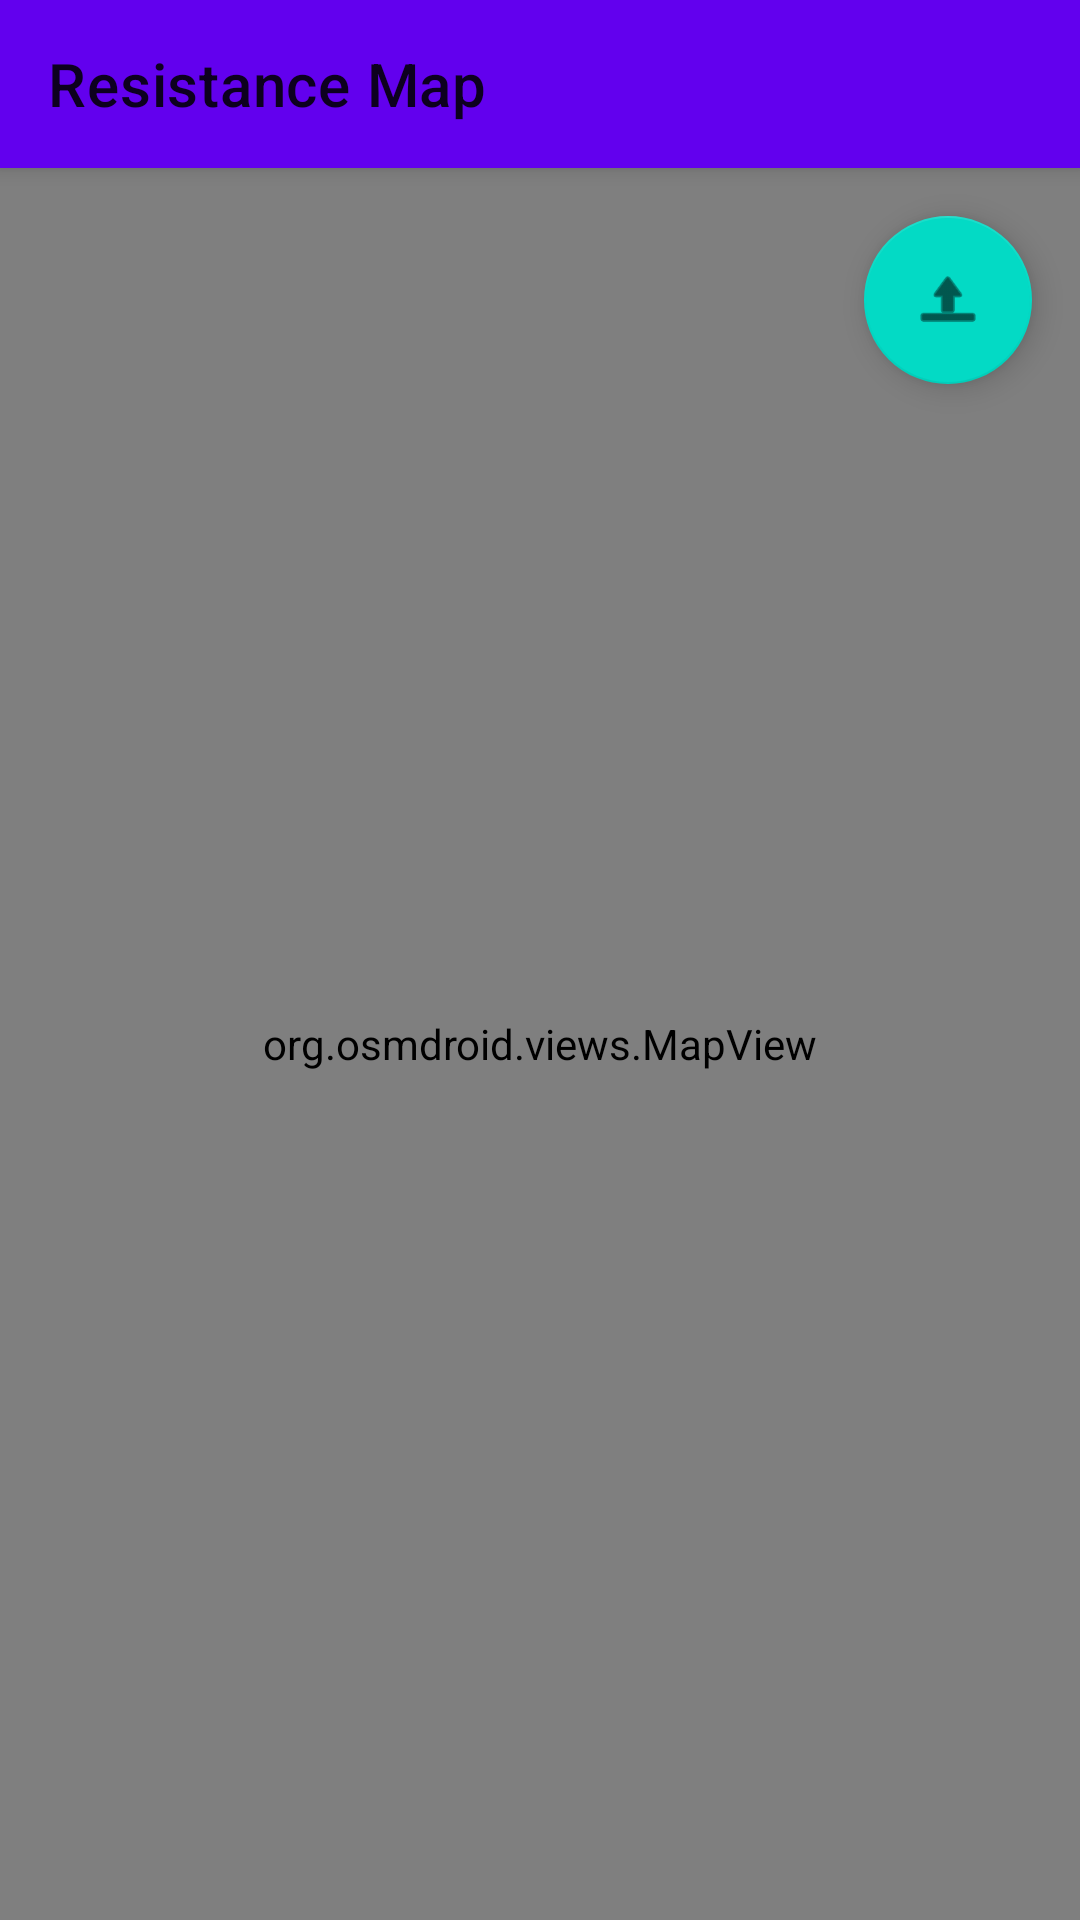

Where icons sit on this 1080px x 1920px app screen, as box(x1, y1, x2, y2):
Load File: box(864, 216, 1032, 384)
